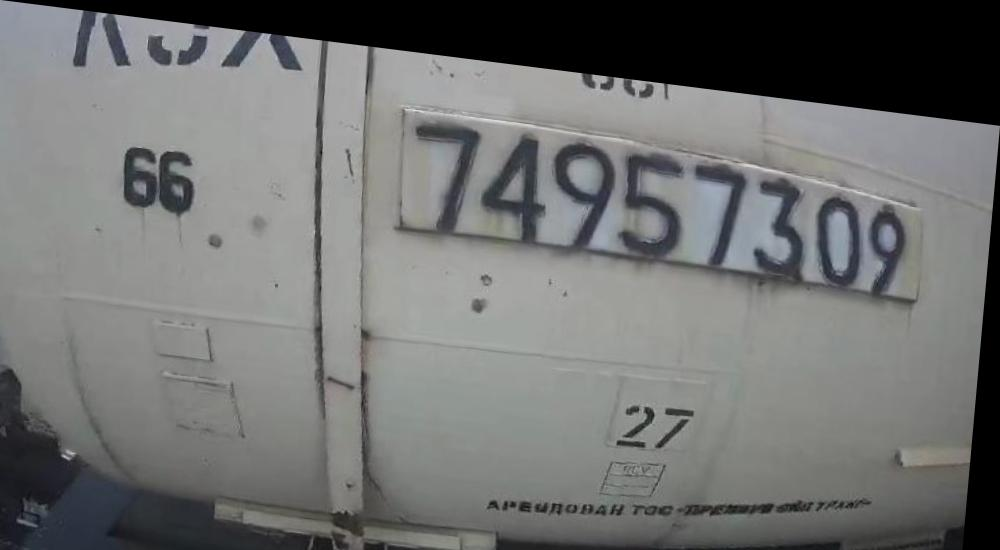Wagon-number: (396, 100, 919, 278)
